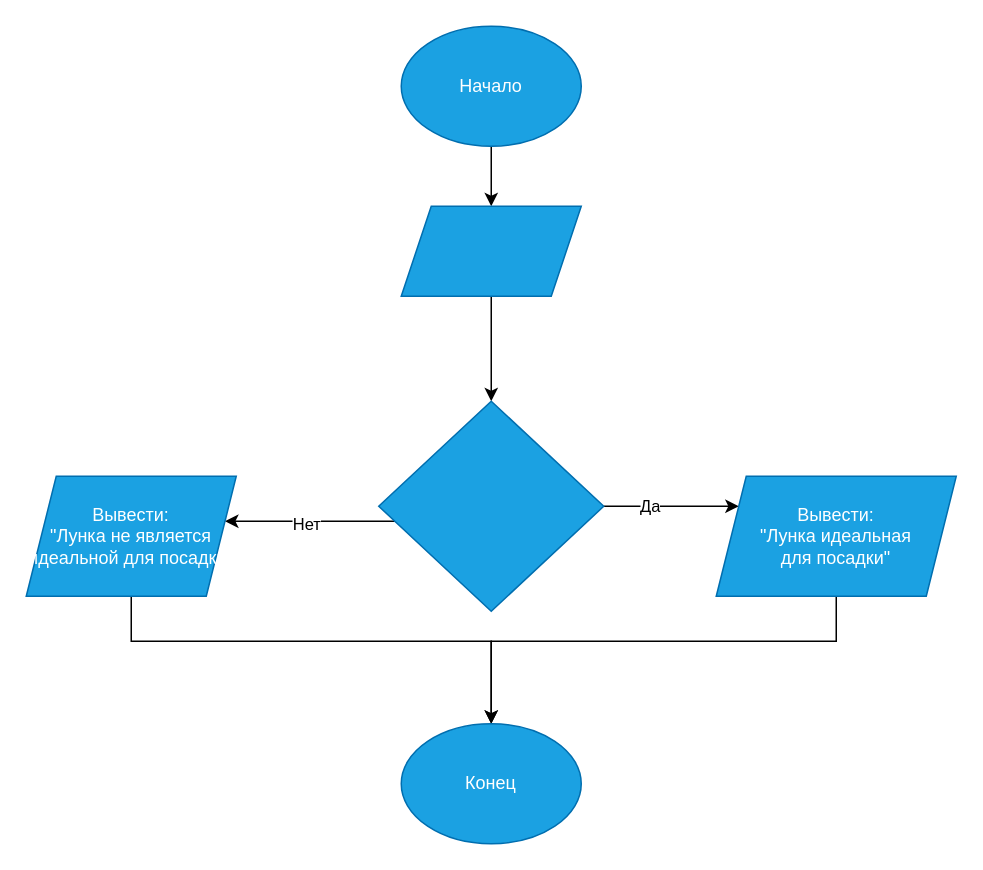
Image size: 983x870. Some labels were removed from this diagram. The shapes that lost their labels are listed below. From the top down, each one's centre as x and y in pixels, then its label:
At point (490, 250): "Ввести A, B, C".
At point (490, 505): "(A % 3 == 0) && (B % 3 == 0) && (C % 3 == 0)".
